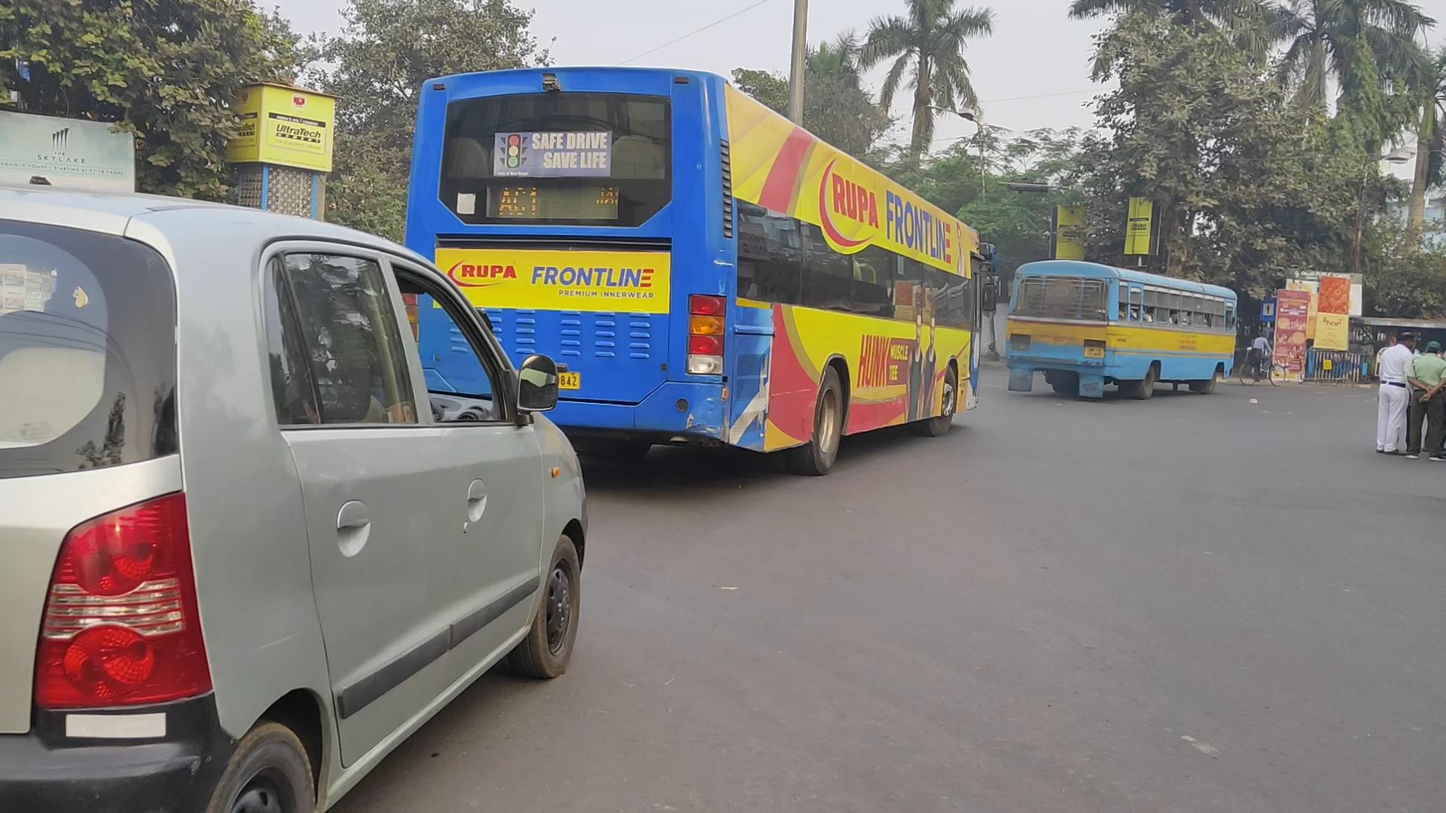Bus: (404, 65, 995, 478), (1005, 259, 1238, 399)
bike: (1240, 330, 1286, 388)
car: (2, 184, 590, 813)
